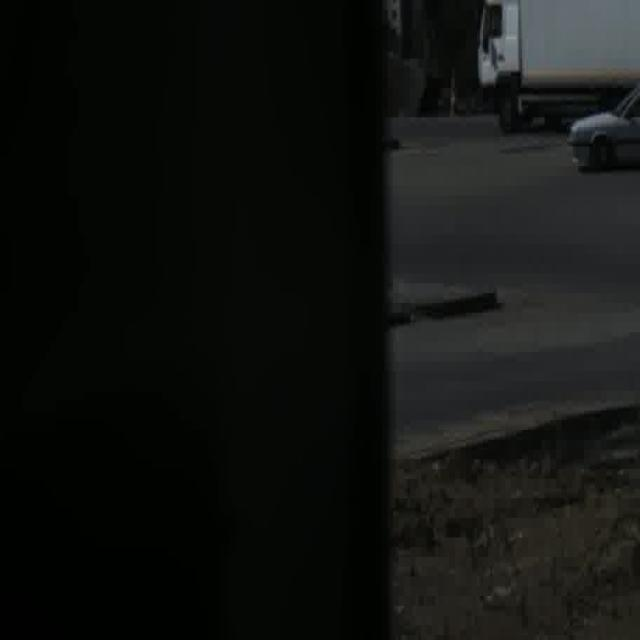Car: (475, 0, 640, 128), (565, 86, 640, 175)
